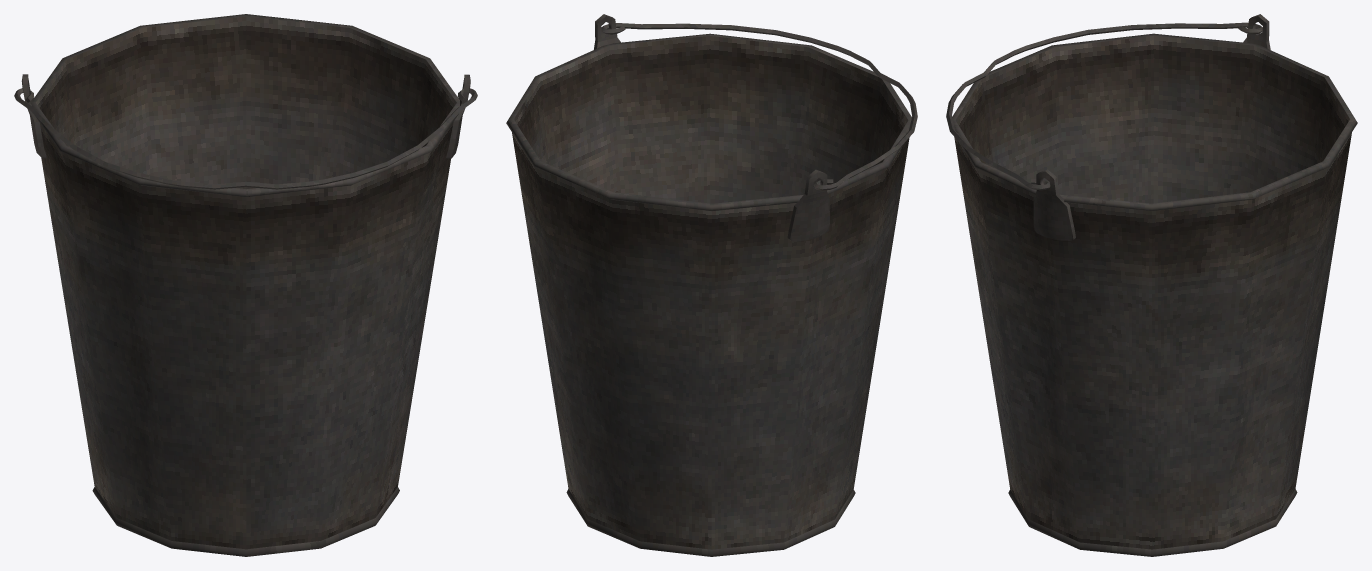
Rendered from bucket_mx_3.glb.
3 renders of one model, left to right at view 1: azimuth 30°, elevation 25°; view 2: azimuth 150°, elevation 25°; view 3: azimuth 270°, elevation 25°, orthographic. The views are drawn at different scales.
Visible parts, largest first — view 1: bucket_mx_3; view 2: bucket_mx_3; view 3: bucket_mx_3.
Part boxes in pixels (x1,y1,x2,y2): bucket_mx_3: (14,14,477,556); bucket_mx_3: (506,14,917,556); bucket_mx_3: (946,14,1357,556).
Size of the model in its own units: 0.4299 by 0.4651 by 0.4298.
Materials: 1 (1 with a texture image).
